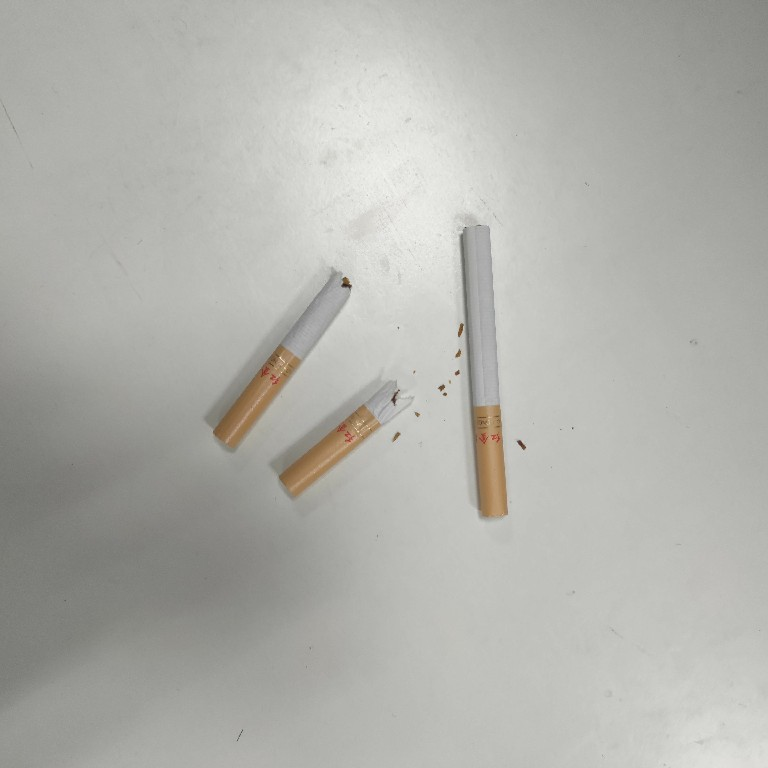cigarette: (211, 265, 356, 452), (273, 378, 416, 502), (457, 221, 512, 522)
